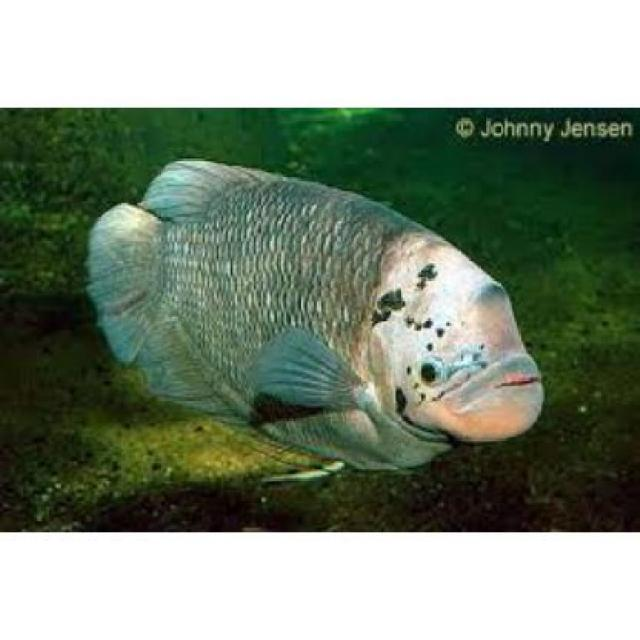gurame: (80, 150, 556, 478)
